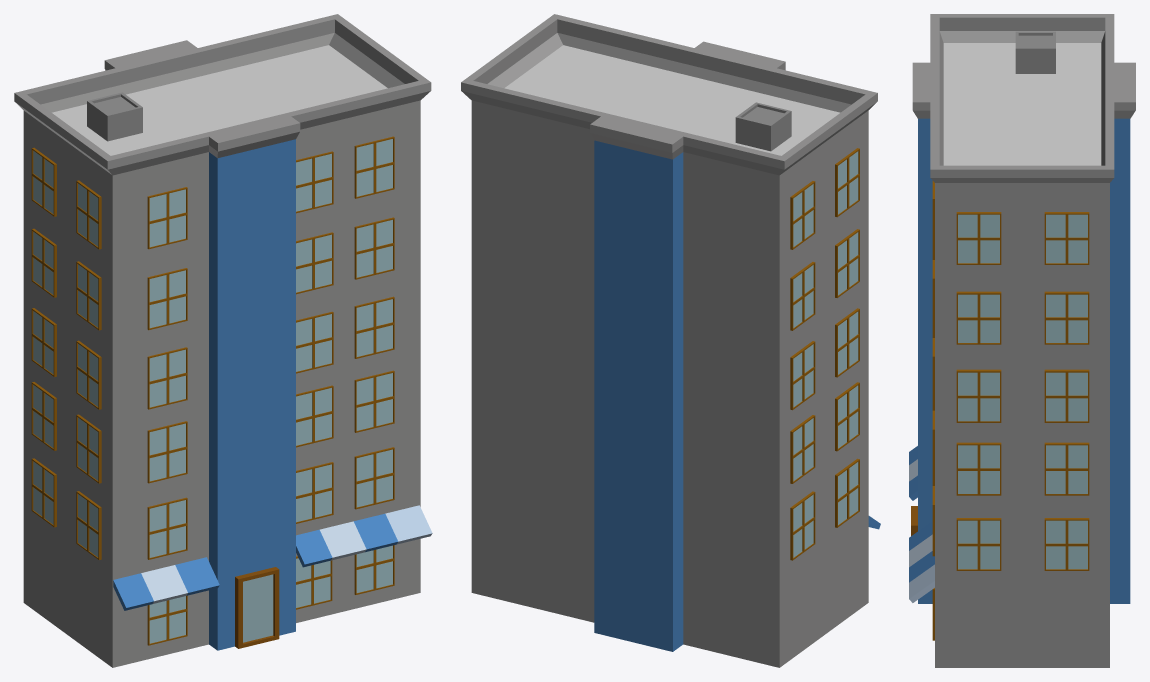
The model's file is Store_3.fbx.
The picture shows the model from 3 angles, left to right: view 1: azimuth 30°, elevation 25°; view 2: azimuth 150°, elevation 25°; view 3: azimuth 270°, elevation 25°; orthographic projection.
Visible parts, largest first — view 1: House; view 2: House; view 3: House.
Boxes of the visible parts, x1=… form: House: x1=14, y1=14, x2=432, y2=667; House: x1=461, y1=14, x2=880, y2=667; House: x1=909, y1=14, x2=1135, y2=667.
Size of the model in its own units: 42 by 63.66 by 25.88.
